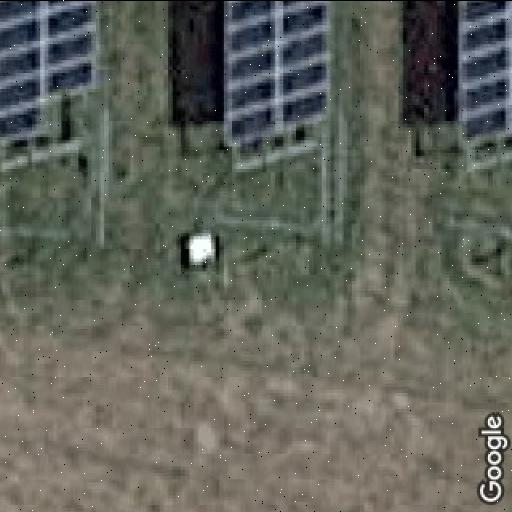solar-panel: (228, 0, 326, 141), (0, 0, 98, 133), (459, 0, 512, 147)
